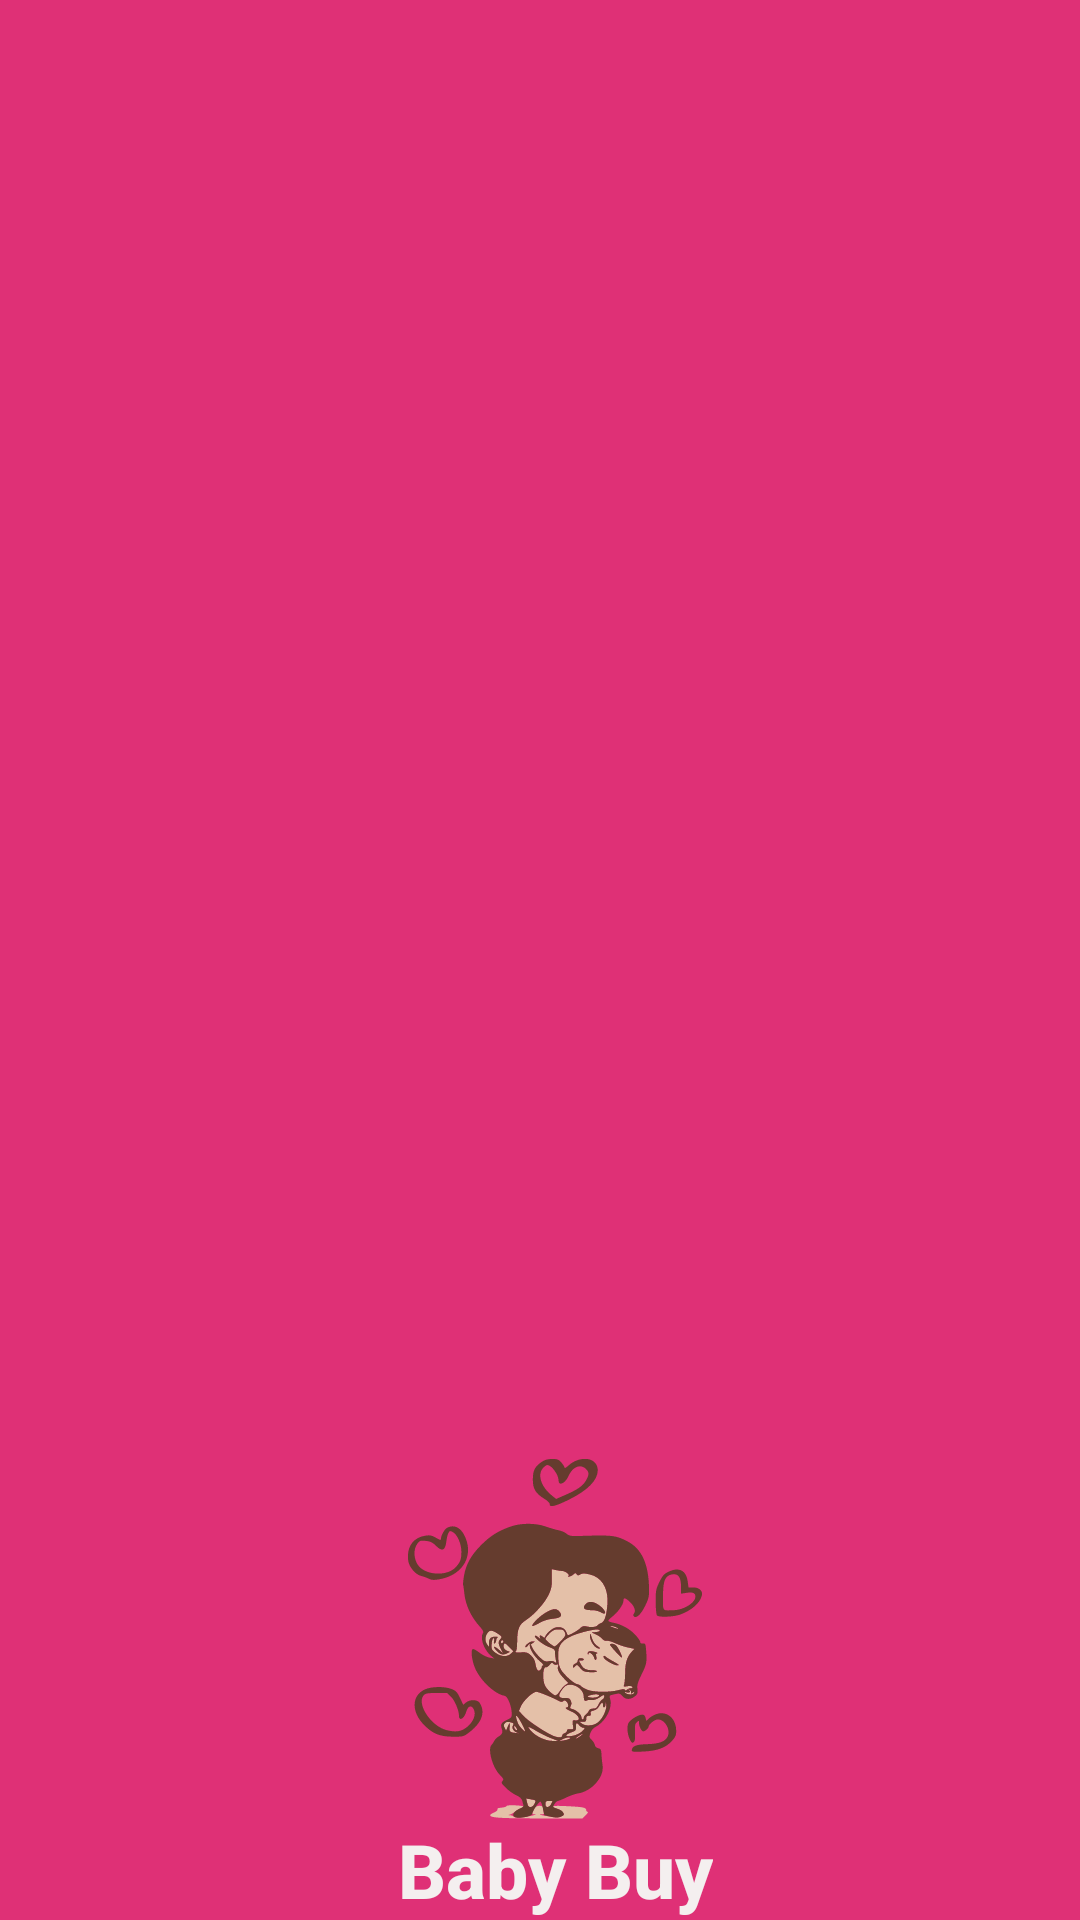

Named icons in this screenshot (1080×1920) and their bounding boxes, bbox=(x1, y1, x2, y2):
headerlayoutimage: bbox=(408, 1459, 702, 1819)
